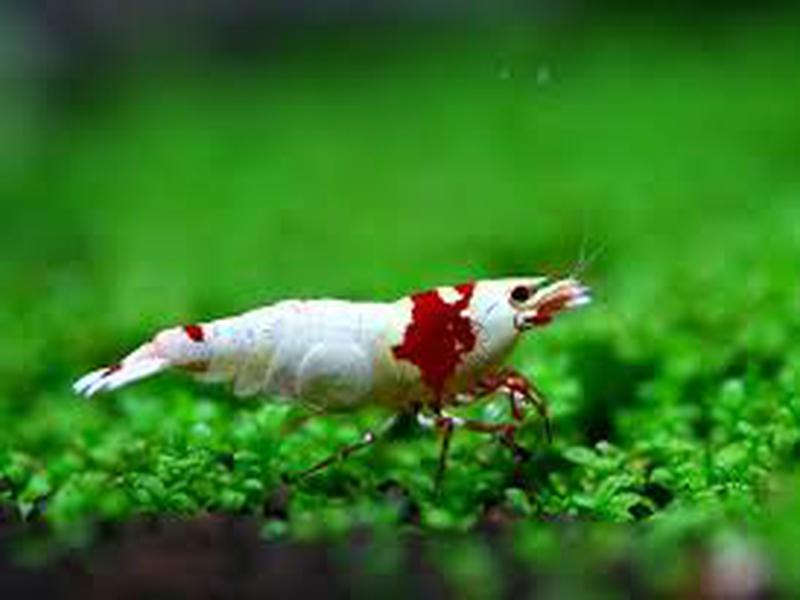shrimp: (83, 274, 592, 439)
